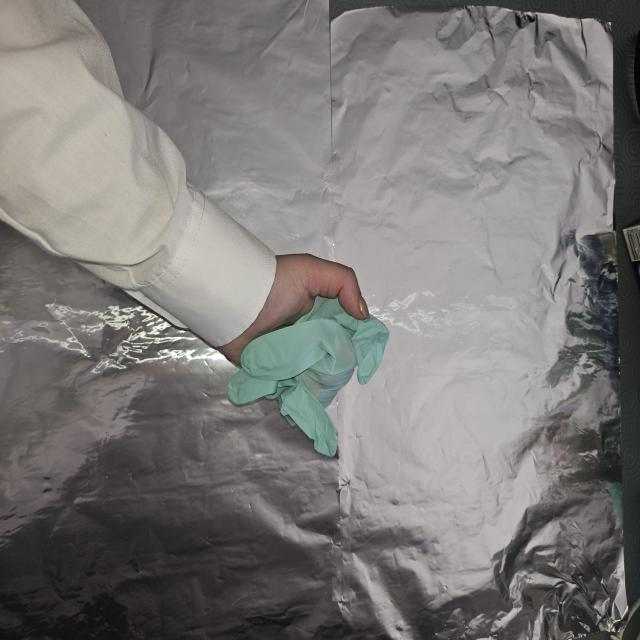glove_partial: (227, 251, 390, 459)
